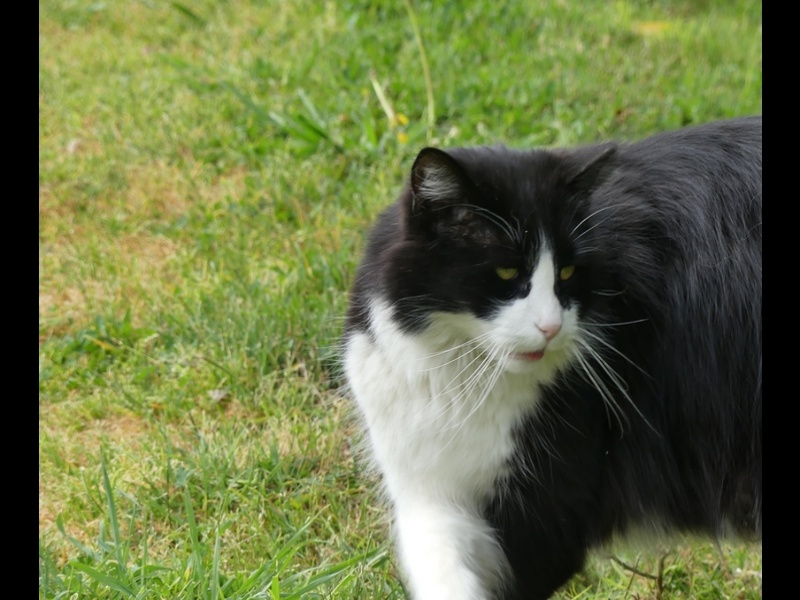cat: (329, 118, 753, 593)
